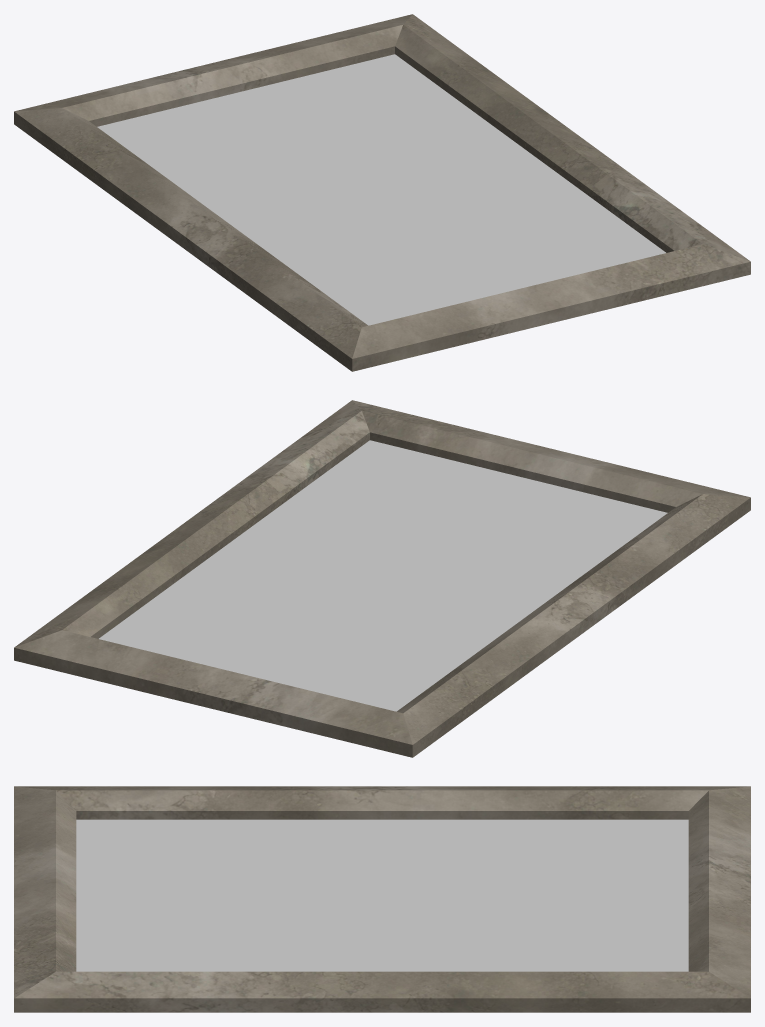
Rendered from Frame1.gltf.
The picture shows the model from 3 angles, top to bottom: view 1: azimuth 30°, elevation 25°; view 2: azimuth 150°, elevation 25°; view 3: azimuth 270°, elevation 25°; orthographic projection. The views are drawn at different scales.
Visible parts, largest first — view 1: Plane.001; view 2: Plane.001; view 3: Plane.001.
Boxes of the visible parts, x1,y1,x2,y2 form: Plane.001: (14,14,750,371); Plane.001: (14,400,750,757); Plane.001: (14,786,750,1012).
Bounding box in the file's own units: 6.79 × 0.3807 × 9.98.
